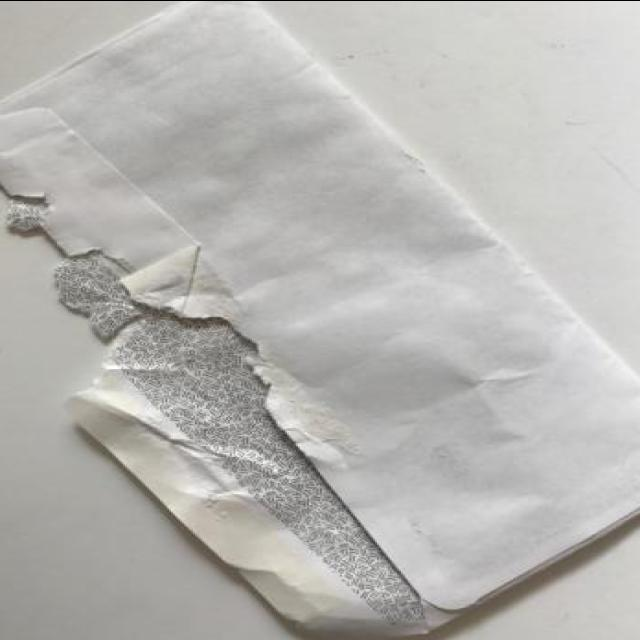kertas: (0, 0, 640, 638)
